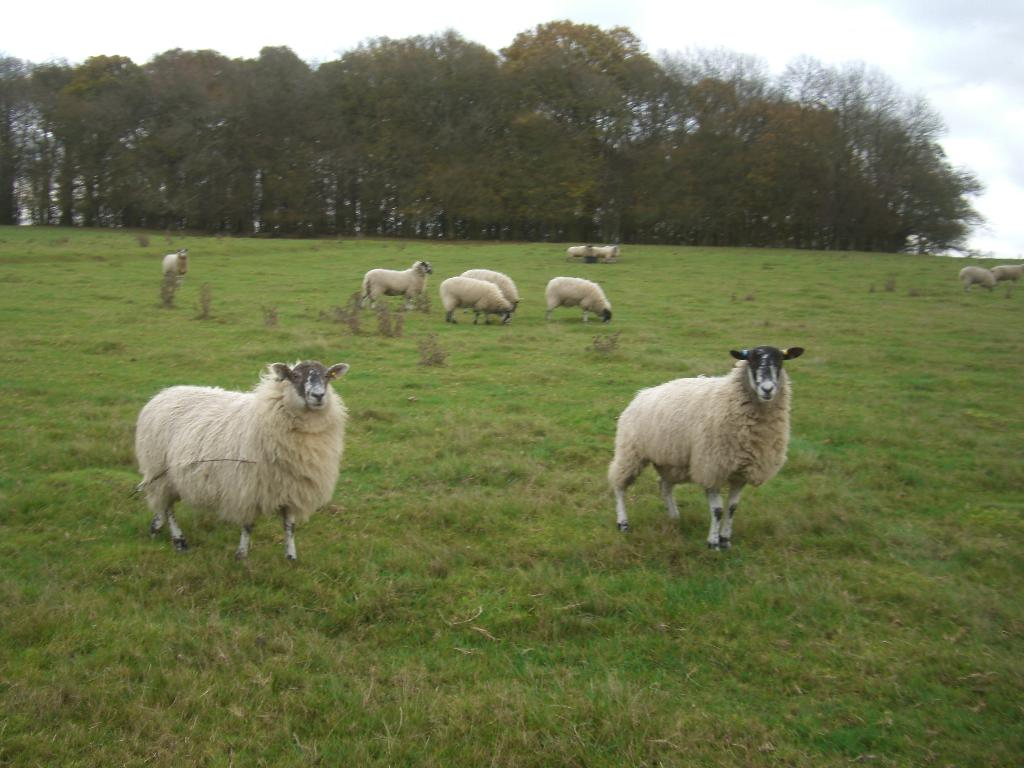sheep: (126, 345, 359, 570), (439, 275, 516, 323), (545, 272, 609, 323), (362, 261, 433, 306), (963, 265, 999, 293)
